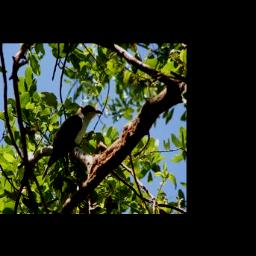Cuckoo: (43, 105, 104, 181)
